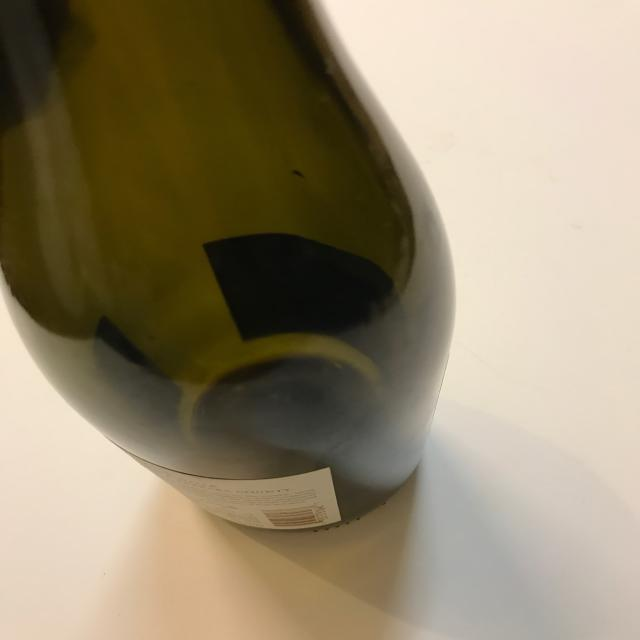glass: (1, 0, 458, 537)
